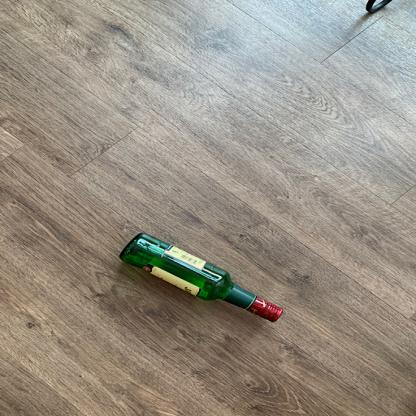trash: (117, 234, 287, 326)
